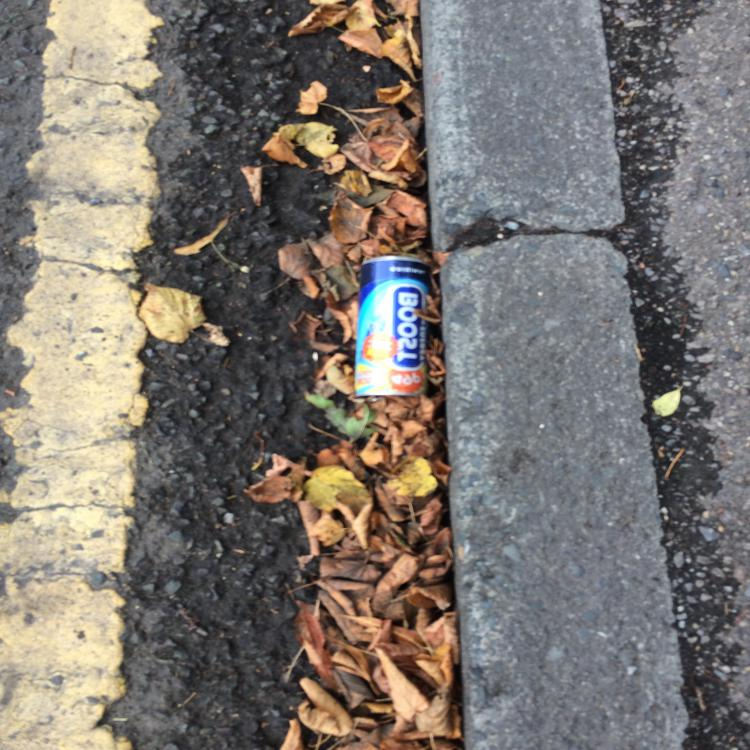Drink can: (354, 255, 432, 402)
